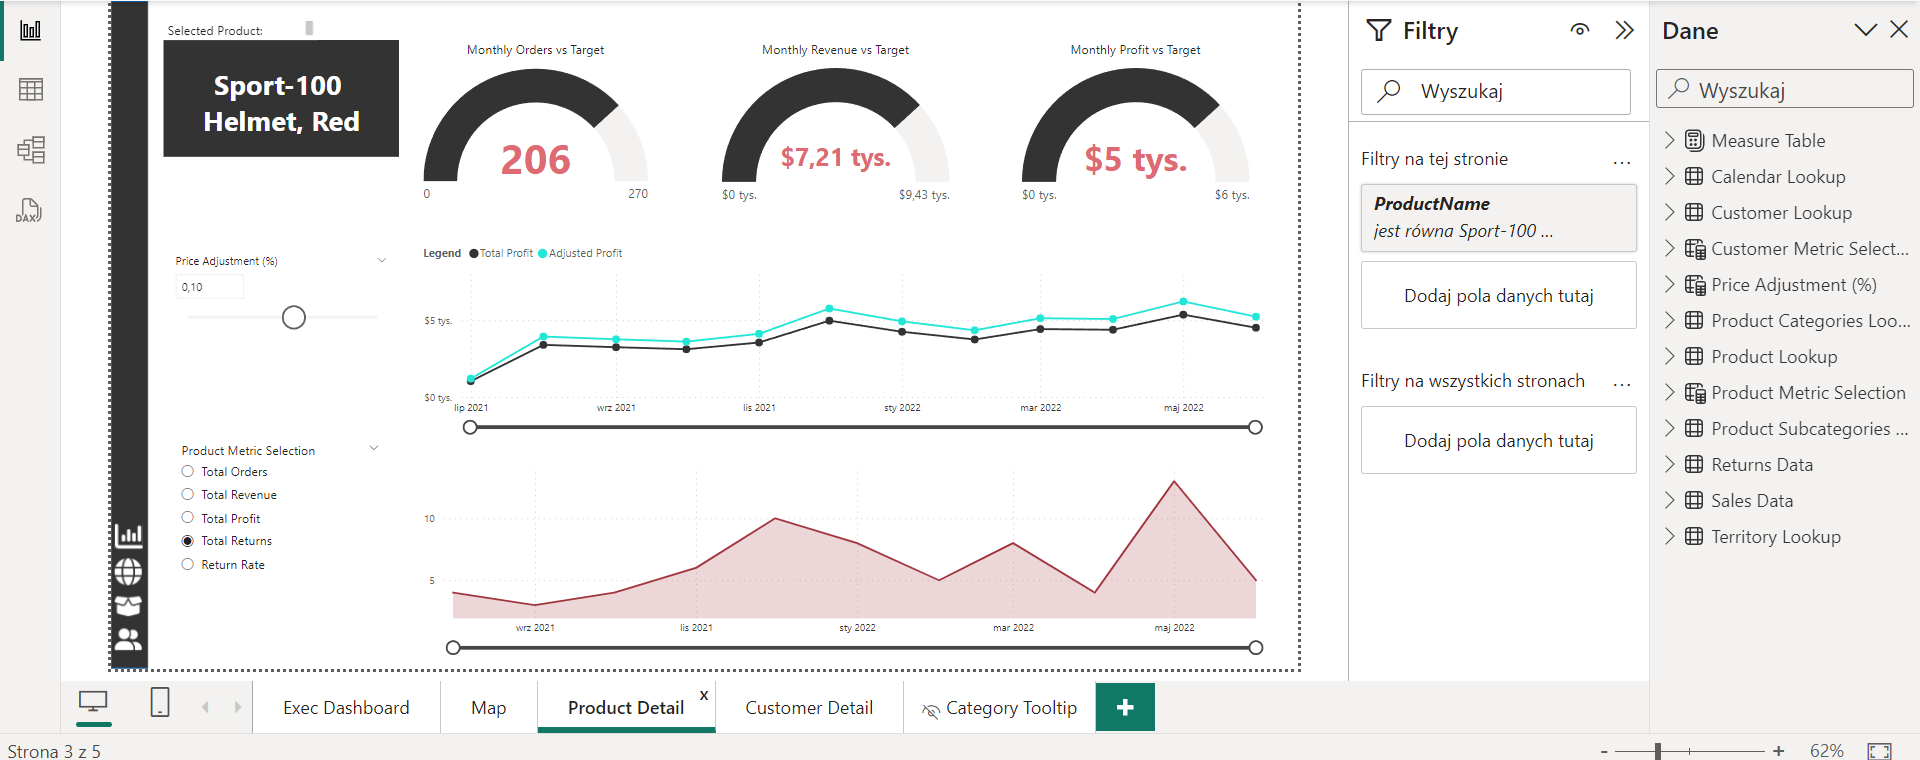

The page's visual inventory and layout, read from the dashboard file:
{"tool":"powerbi","page":{"name":"Product Detail","canvas":[1280,720],"ordinal":2},"visuals":[{"type":"shape","box":[0,0,40,720],"z":0},{"type":"gauge","title":"Monthly Orders vs Target","fields":{"Y":["Measure Table.Total Orders"],"MaxValue":["Measure Table.Order Target"]},"box":[331.7,42.1,252.4,192.5],"z":1000},{"type":"gauge","title":"Monthly Revenue vs Target","fields":{"Y":["Measure Table.Total Revenue"],"MaxValue":["Measure Table.Revenue Target"]},"box":[652.9,42.1,255.6,192.5],"z":2000},{"type":"gauge","title":"Monthly Profit vs Target","fields":{"Y":["Measure Table.Total Profit"],"MaxValue":["Measure Table.Profit Target"]},"box":[977.3,42.1,255.6,192.5],"z":3000},{"type":"lineChart","title":"Profit Tranding","fields":{"Category":["Calendar Lookup.Date Hierarchia.Start of Year","Calendar Lookup.Date Hierarchia.Start of Month","Calendar Lookup.Date Hierarchia.Start of Week","Calendar Lookup.Date Hierarchia.Date"],"Y":["Measure Table.Total Profit","Measure Table.Adjusted Profit"]},"box":[331.7,251.7,930,218.3],"z":4000},{"type":"areaChart","title":"Return Tranding","fields":{"Y":["Measure Table.Total Returns"],"Category":["Calendar Lookup.Date Hierarchia.Start of Year","Calendar Lookup.Date Hierarchia.Start of Month","Calendar Lookup.Date Hierarchia.Start of Week","Calendar Lookup.Date Hierarchia.Date"]},"box":[331.7,490,930,218.3],"z":5000},{"type":"card","fields":{"Values":["Min(Product Lookup.ProductName)"]},"box":[56.6,42.1,254,126.2],"z":6000},{"type":"textbox","box":[56.6,16.2,166.7,25.9],"z":7000},{"type":"actionButton","box":[0,558.3,41.7,38.3],"z":8000},{"type":"actionButton","box":[0.6,633.4,40.4,37.2],"z":9000},{"type":"actionButton","box":[0.6,669.8,40.4,37.2],"z":10000},{"type":"actionButton","box":[0.6,597,40.4,37.2],"z":11000},{"type":"slicer","fields":{"Values":["Price Adjustment (%).Price Adjustment (%)"]},"box":[56.7,266.7,253.3,126.7],"z":12000},{"type":"slicer","fields":{"Values":["Product Metric Selection.Product Metric Selection"]},"box":[63.3,470,238.3,163.3],"z":13000}]}

Visuals, with their boxes on the page's 1280x720 design canvas (x1, y1, x2, y2). These are canvas units, not pixel positions in the 1920x760 screenshot, which may show the page scaled, cropped or inside an application window:
shape: left=0, top=0, right=40, bottom=720
"Monthly Orders vs Target" gauge: left=332, top=42, right=584, bottom=235
"Monthly Revenue vs Target" gauge: left=653, top=42, right=908, bottom=235
"Monthly Profit vs Target" gauge: left=977, top=42, right=1233, bottom=235
"Profit Tranding" lineChart: left=332, top=252, right=1262, bottom=470
"Return Tranding" areaChart: left=332, top=490, right=1262, bottom=708
card - Min(Product Lookup.ProductName): left=57, top=42, right=311, bottom=168
textbox: left=57, top=16, right=223, bottom=42
actionButton: left=0, top=558, right=42, bottom=597
actionButton: left=1, top=633, right=41, bottom=671
actionButton: left=1, top=670, right=41, bottom=707
actionButton: left=1, top=597, right=41, bottom=634
slicer - Price Adjustment (%).Price Adjustment (%): left=57, top=267, right=310, bottom=393
slicer - Product Metric Selection.Product Metric Selection: left=63, top=470, right=302, bottom=633
